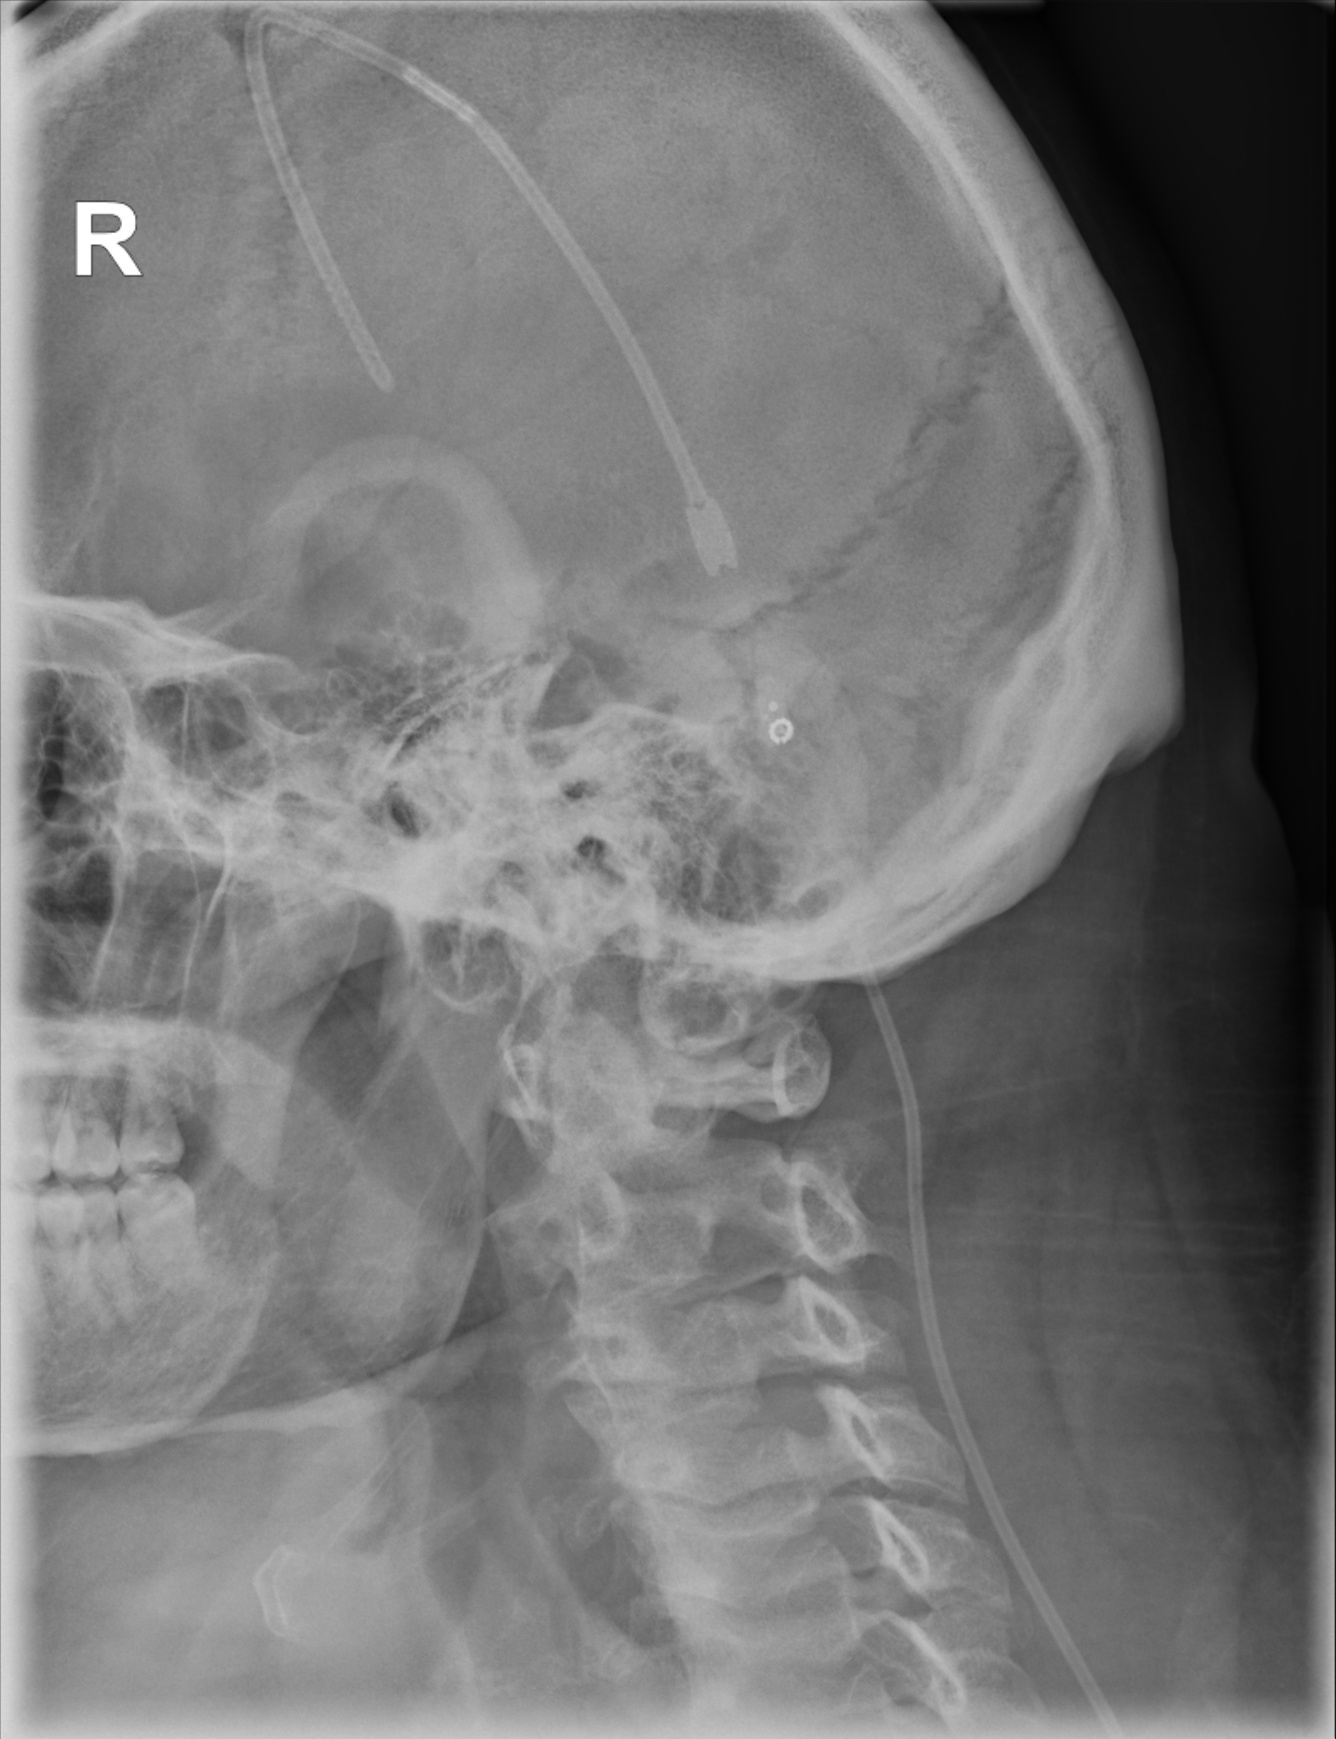Codman Hakim: (748, 691, 807, 766)
